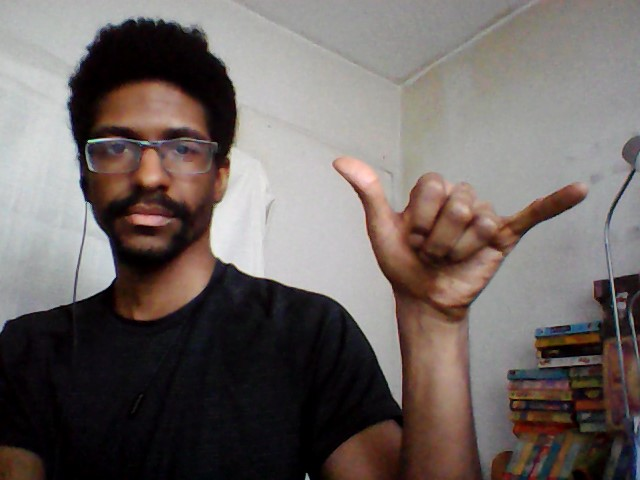y: (327, 150, 591, 318)
